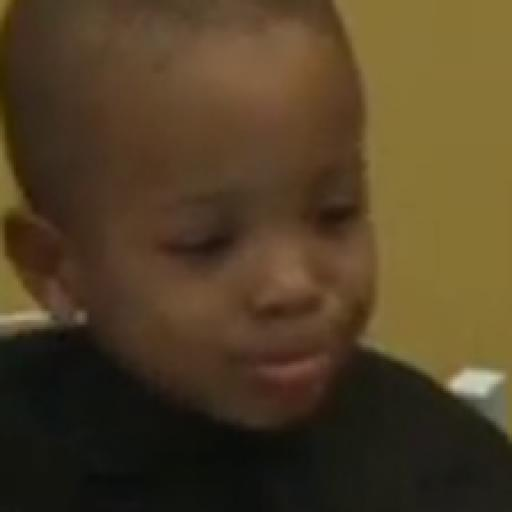Autism: (22, 12, 451, 428)
